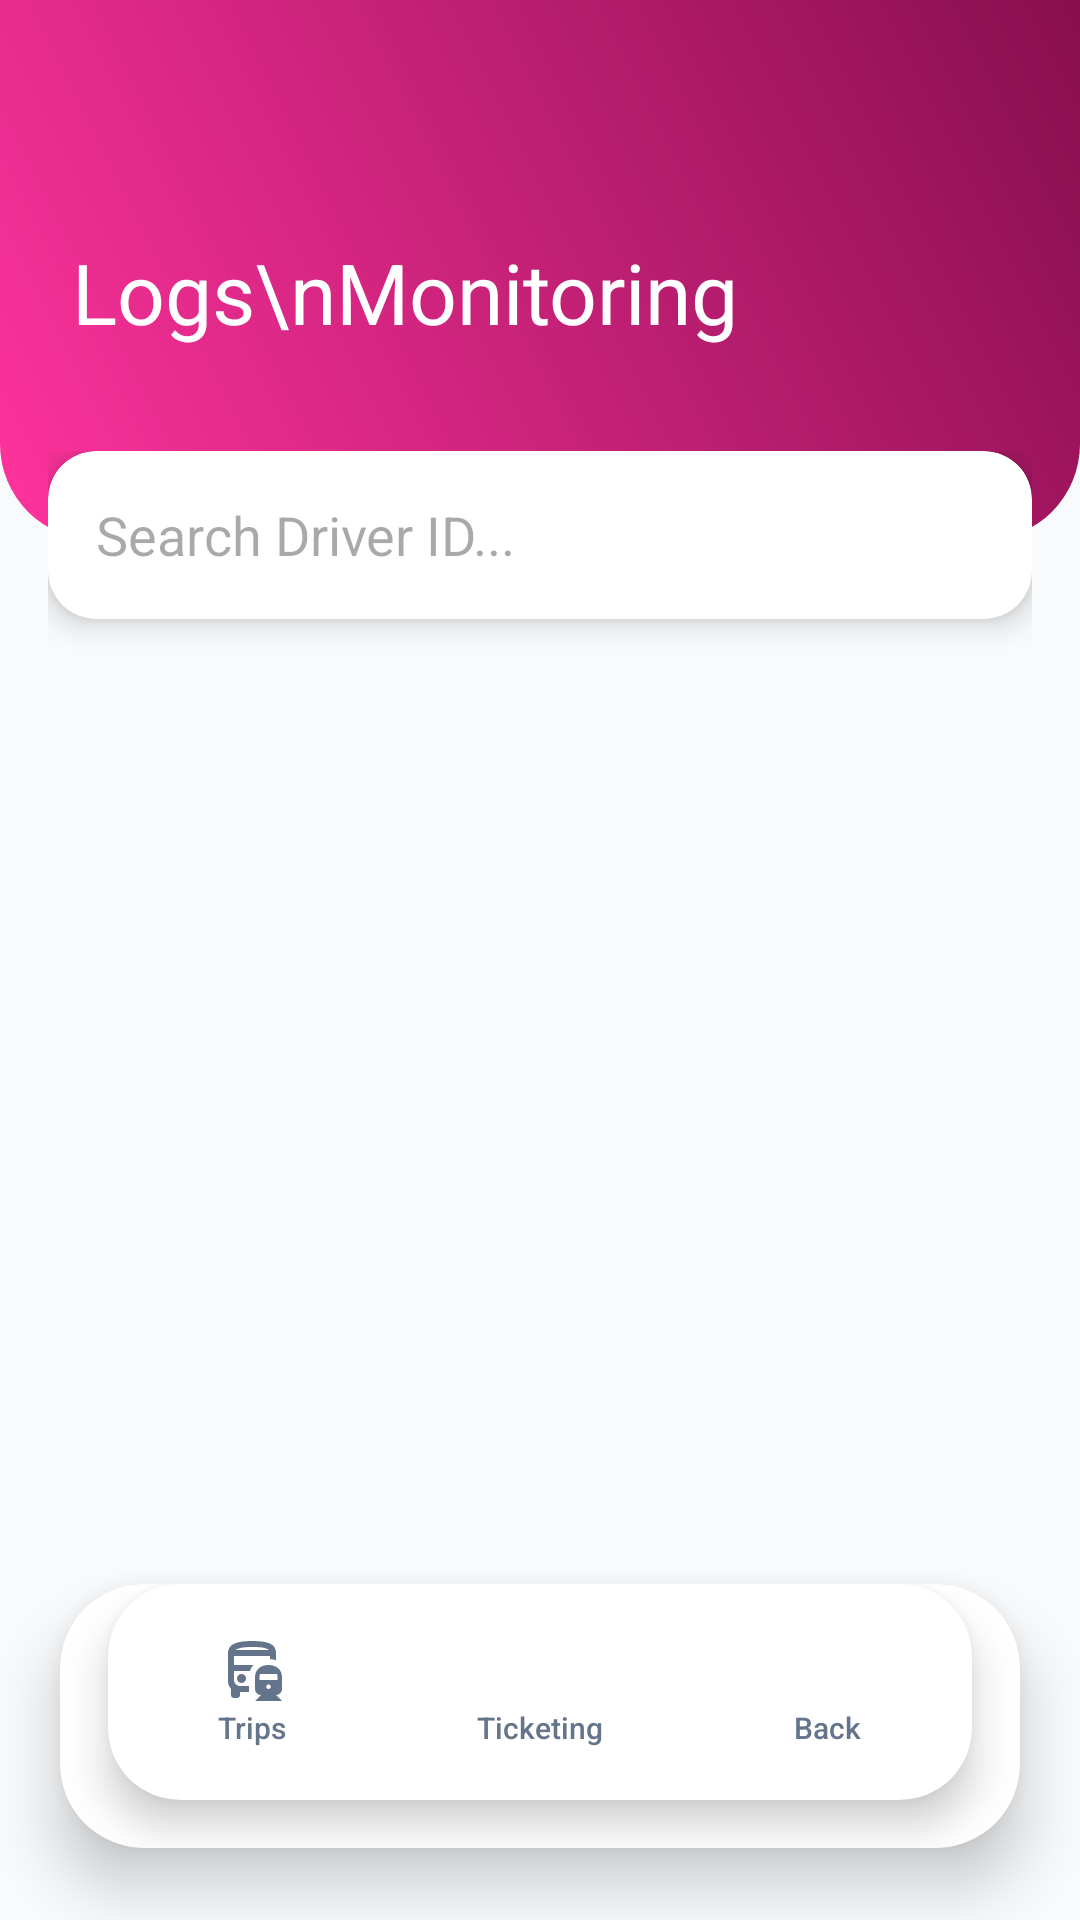

Icons on this 1080*1920 Android screen, each with the point to tap as point (x, y):
bus railway: point (255, 1671)
